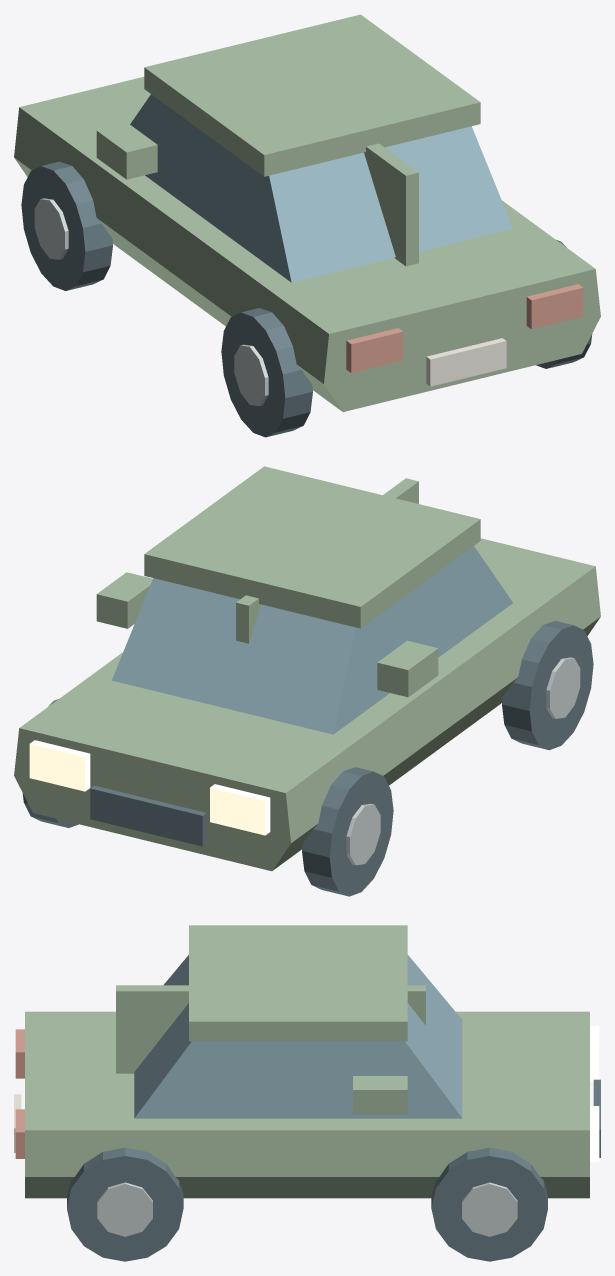
The model's file is remaster_car_4.glb.
3 renders of one model, top to bottom at view 1: azimuth 30°, elevation 25°; view 2: azimuth 150°, elevation 25°; view 3: azimuth 270°, elevation 25°, orthographic. The views are drawn at different scales.
Parts seen in each view (by area): view 1: remaster_car_4 green, remaster_car_4 glass, remaster_car_4 dark, remaster_car_4 red, remaster_car_4 metal, remaster_car_4 white; view 2: remaster_car_4 green, remaster_car_4 glass, remaster_car_4 dark, remaster_car_4 warm, remaster_car_4 metal; view 3: remaster_car_4 green, remaster_car_4 glass, remaster_car_4 dark, remaster_car_4 metal, remaster_car_4 warm, remaster_car_4 red.
Part boxes in pixels (box(x1,y1,x2,y2)): remaster_car_4 green: box(14, 14, 600, 411); remaster_car_4 glass: box(130, 94, 512, 282); remaster_car_4 dark: box(21, 161, 592, 437); remaster_car_4 red: box(346, 284, 583, 373); remaster_car_4 metal: box(34, 198, 268, 405); remaster_car_4 white: box(426, 338, 506, 386); remaster_car_4 green: box(14, 466, 600, 871); remaster_car_4 glass: box(112, 546, 512, 734); remaster_car_4 dark: box(22, 620, 593, 896); remaster_car_4 warm: box(29, 740, 270, 835); remaster_car_4 metal: box(346, 657, 580, 865); remaster_car_4 green: box(25, 925, 589, 1198); remaster_car_4 glass: box(134, 955, 462, 1118); remaster_car_4 dark: box(67, 1079, 600, 1261); remaster_car_4 metal: box(97, 1182, 517, 1236); remaster_car_4 warm: box(590, 1026, 599, 1161); remaster_car_4 red: box(15, 1029, 24, 1158).
Bounding box in the file's own units: 1.82 × 1.33 × 3.22.
